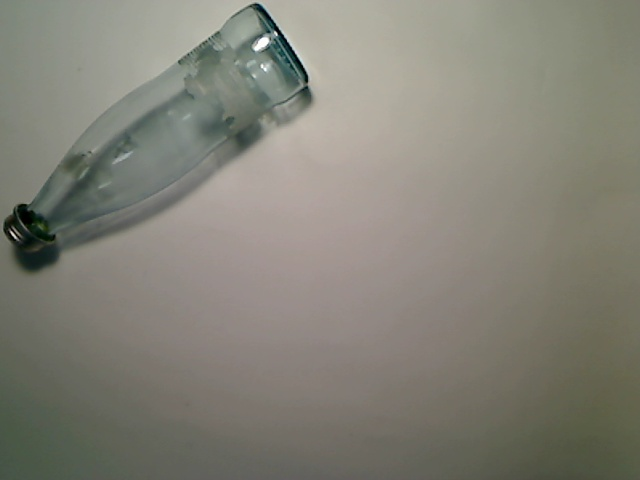bottle: (3, 1, 310, 253)
